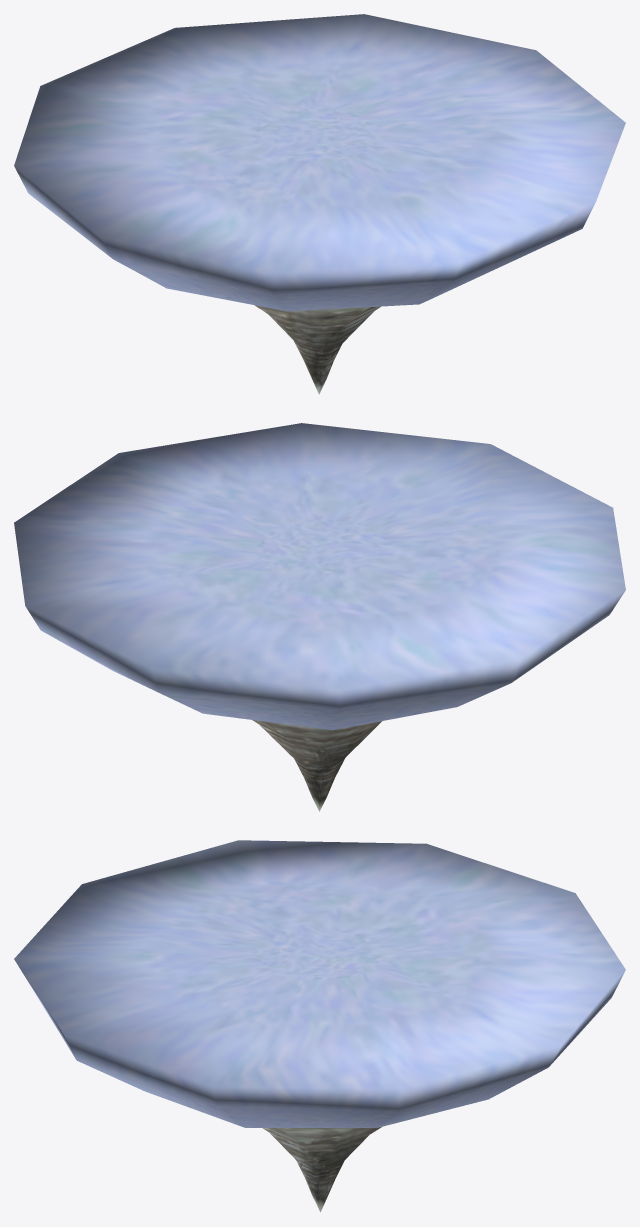
The model's file is INST_TROLLHOLE_PLAT_ANI-PATHA.obj.
3 renders of one model, top to bottom at view 1: azimuth 30°, elevation 25°; view 2: azimuth 150°, elevation 25°; view 3: azimuth 270°, elevation 25°, orthographic. The views are drawn at different scales.
Visible parts, largest first — view 1: i-pathA_Lod1_01; view 2: i-pathA_Lod1_01; view 3: i-pathA_Lod1_01.
Part boxes in pixels (x1,y1,x2,y2): i-pathA_Lod1_01: (14,14,625,394); i-pathA_Lod1_01: (14,423,625,811); i-pathA_Lod1_01: (14,840,625,1212).
Bounding box in the file's own units: 343 × 165 × 356.
